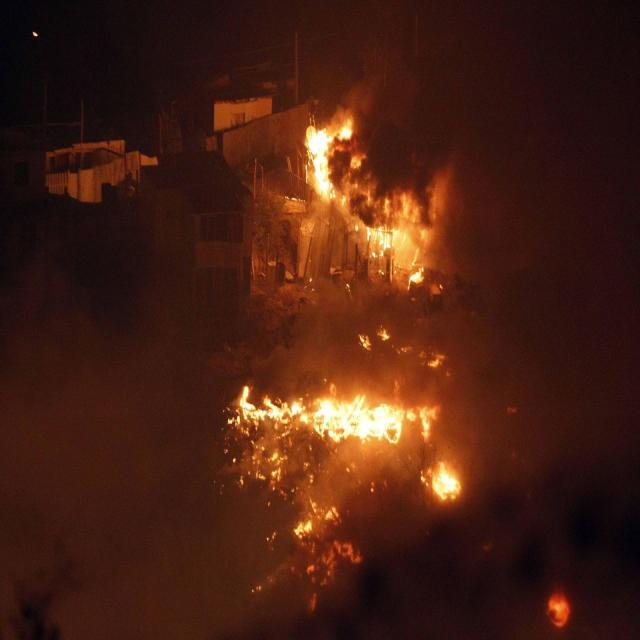Fire: (233, 382, 442, 444), (298, 118, 338, 198), (356, 213, 412, 270), (286, 498, 346, 546), (424, 461, 466, 508), (400, 256, 424, 292)
Smoke: (353, 40, 464, 191)
